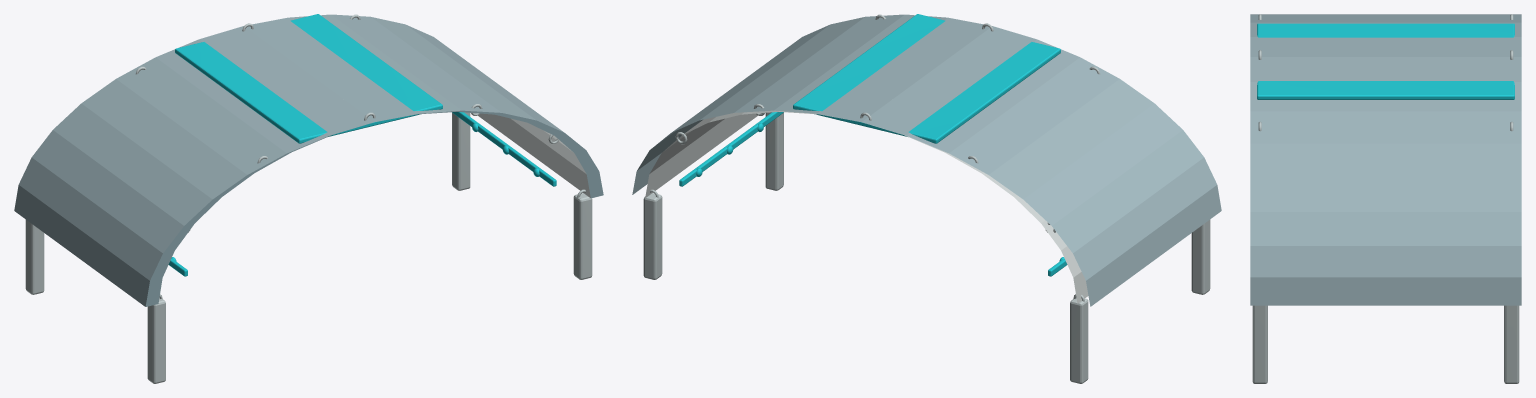
Rendered from runner_day_tunnel_shell_v1.glb.
The picture shows the model from 3 angles, left to right: view 1: azimuth 30°, elevation 25°; view 2: azimuth 150°, elevation 25°; view 3: azimuth 270°, elevation 25°; orthographic projection. The views are drawn at different scales.
Parts seen in each view (by area): view 1: runner_day_tunnel_shell_v1; view 2: runner_day_tunnel_shell_v1; view 3: runner_day_tunnel_shell_v1.
Boxes of the visible parts, bbox=[...] form: runner_day_tunnel_shell_v1: bbox=[14, 14, 603, 383]; runner_day_tunnel_shell_v1: bbox=[632, 14, 1221, 383]; runner_day_tunnel_shell_v1: bbox=[1250, 14, 1521, 383].
Bounding box in the file's own units: 12.08 × 5.46 × 6.
